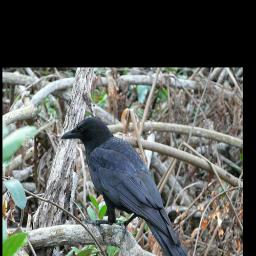Crow: (60, 116, 189, 256)
